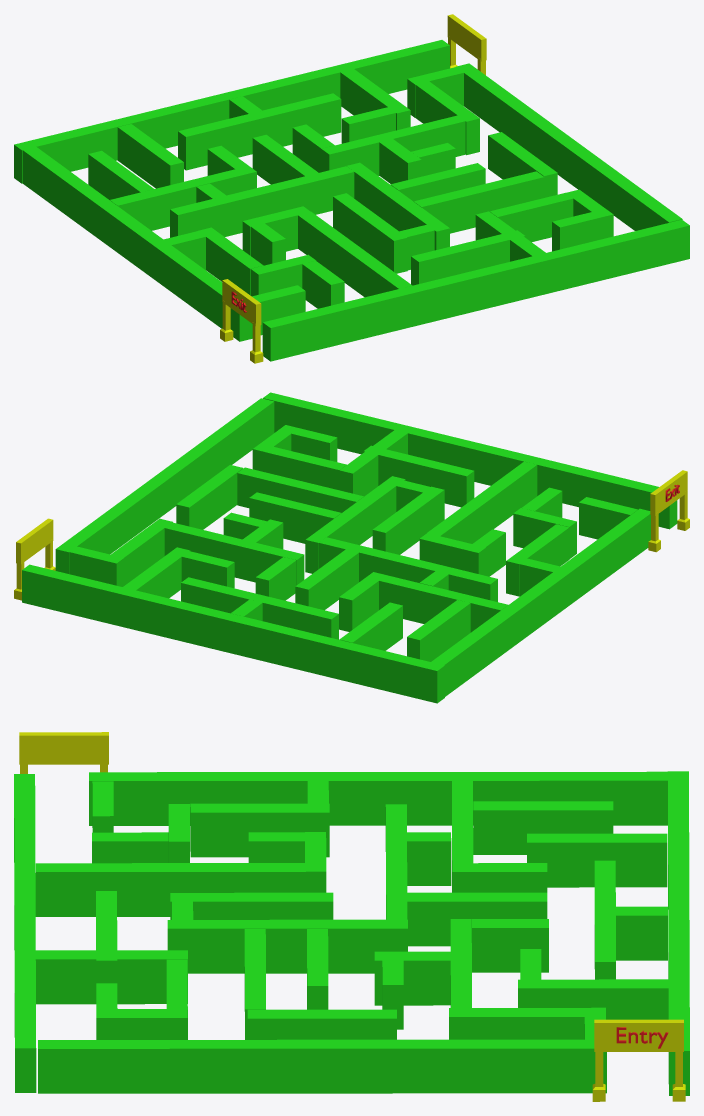
File: maze.gltf
3 renders of one model, top to bottom at view 1: azimuth 30°, elevation 25°; view 2: azimuth 150°, elevation 25°; view 3: azimuth 270°, elevation 25°, orthographic. The views are drawn at different scales.
Parts seen in each view (by area): view 1: Cube, Cube.017, Cube.018, Cube.001, Cube.015, Cube.022, Cube.033, Cube.010, Cube.004, Cube.016, Cube.012, Cube.011 (+29 smaller); view 2: Cube.017, Cube, Cube.018, Cube.001, Cube.033, Cube.022, Cube.015, Cube.004, Cube.016, Cube.011, Cube.034, Cube.010 (+30 smaller); view 3: Cube.001, Cube.018, Cube.033, Cube.011, Cube, Cube.020, Cube.017, Cube.019, Cube.028, Cube.023, Cube.014, Cube.009 (+28 smaller).
Boxes of the visible parts, box(x1,y1,x2,y2) form: Cube: box(262, 219, 689, 361); Cube.017: box(14, 40, 449, 183); Cube.018: box(22, 147, 252, 341); Cube.001: box(456, 63, 682, 230); Cube.015: box(170, 166, 354, 237); Cube.022: box(178, 93, 341, 170); Cube.033: box(298, 211, 412, 297); Cube.010: box(413, 171, 544, 233); Cube.004: box(321, 115, 465, 175); Cube.016: box(110, 166, 256, 230); Cube.012: box(333, 193, 407, 273); Cube.011: box(346, 162, 449, 250); Cube.017: box(22, 564, 444, 703); Cube: box(263, 392, 677, 529); Cube.018: box(431, 508, 650, 696); Cube.001: box(55, 398, 274, 573); Cube.033: box(426, 461, 537, 543); Cube.022: box(181, 577, 338, 639); Cube.015: box(319, 537, 497, 601); Cube.004: box(164, 522, 304, 584); Cube.016: box(366, 572, 508, 632); Cube.011: box(305, 476, 405, 573); Cube.034: box(363, 445, 474, 507); Cube.010: box(237, 467, 363, 512); Cube.001: box(38, 1039, 606, 1093); Cube.018: box(89, 771, 667, 825); Cube.033: box(35, 863, 305, 916); Cube.011: box(167, 919, 407, 973); Cube: box(14, 774, 36, 1092); Cube.020: box(527, 833, 667, 887); Cube.017: box(667, 771, 689, 1095); Cube.019: box(473, 801, 613, 854); Cube.028: box(190, 803, 329, 857); Cube.023: box(518, 979, 668, 1019); Cube.014: box(407, 892, 547, 946); Cube.009: box(247, 1009, 396, 1039).
Size of the model in its own units: 28.05 by 3.5 by 27.34.
